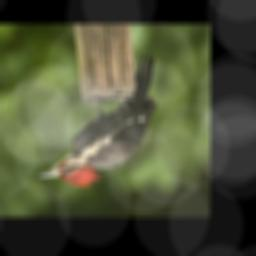Woodpecker: (34, 51, 168, 193)
